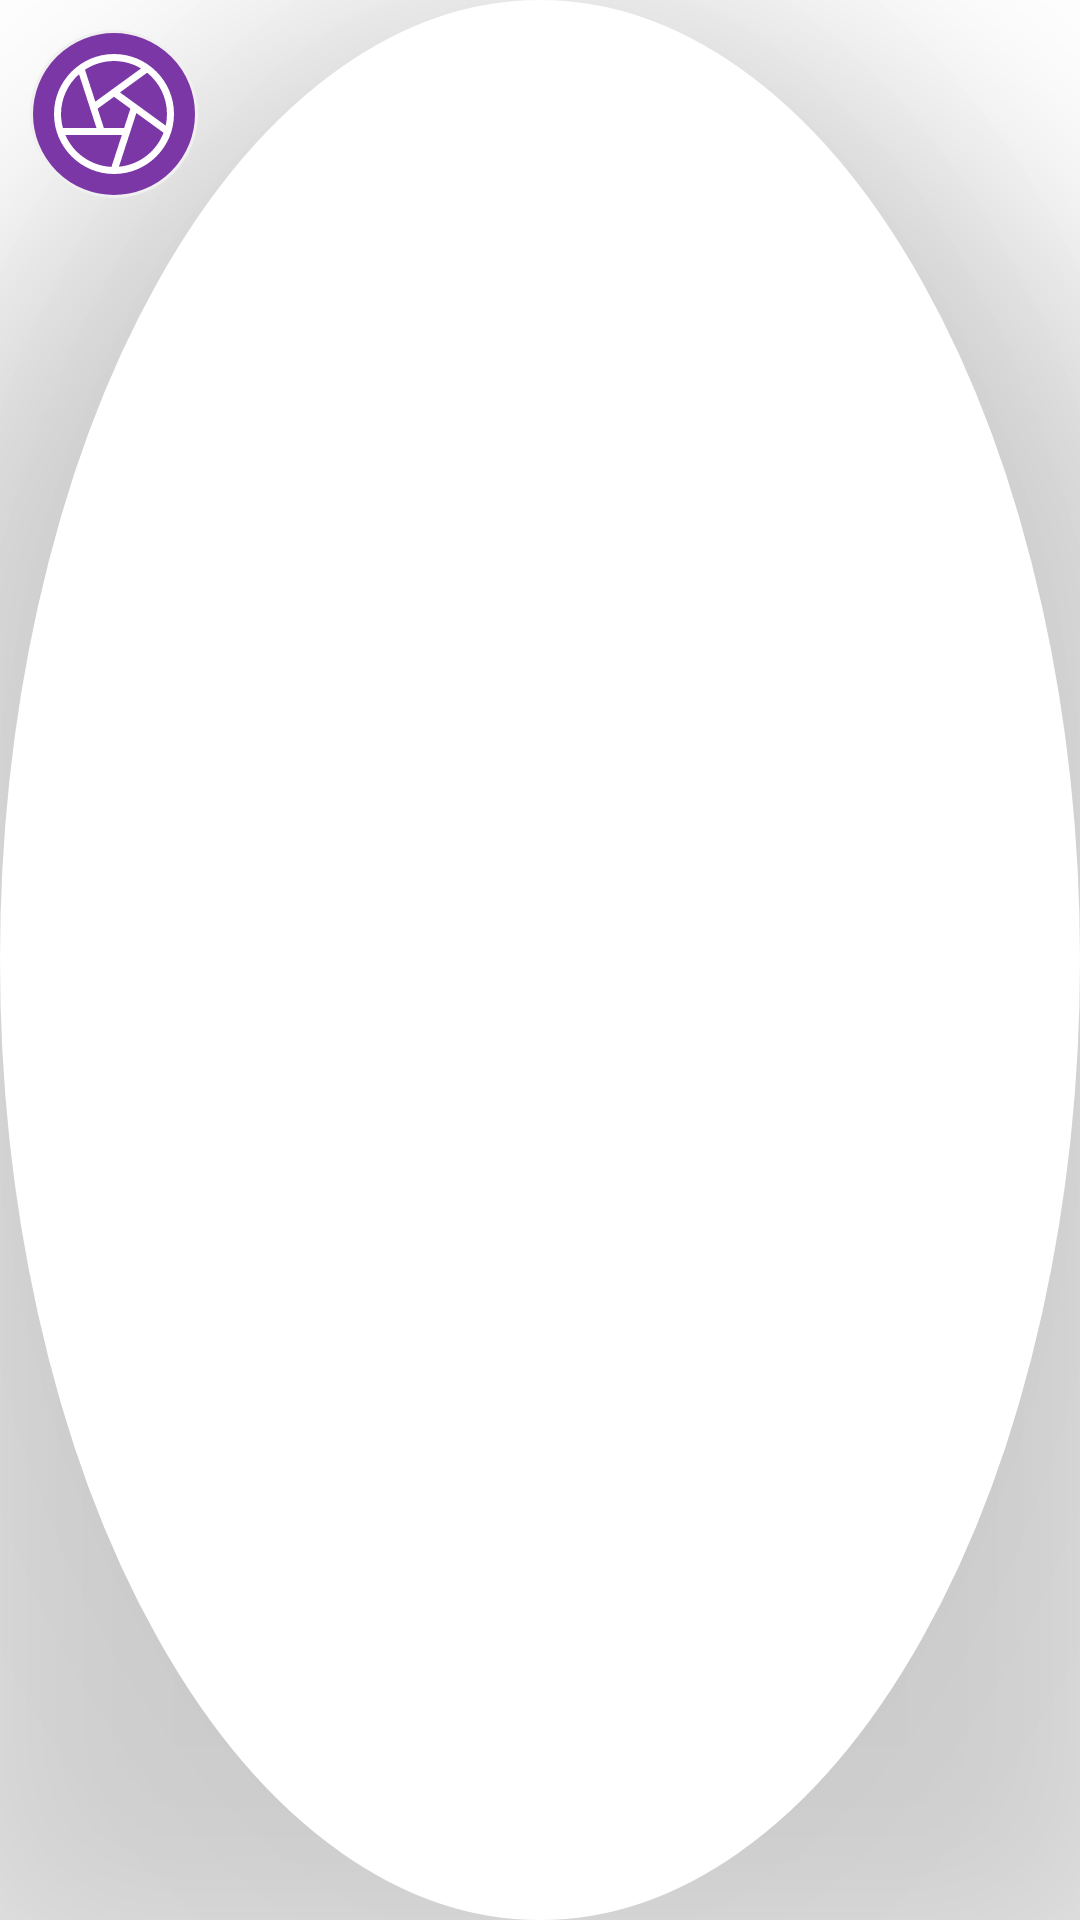

Icon click points for this 1080×1920 phone screenshot, format (x,y):
diaphragm: (114,114)
